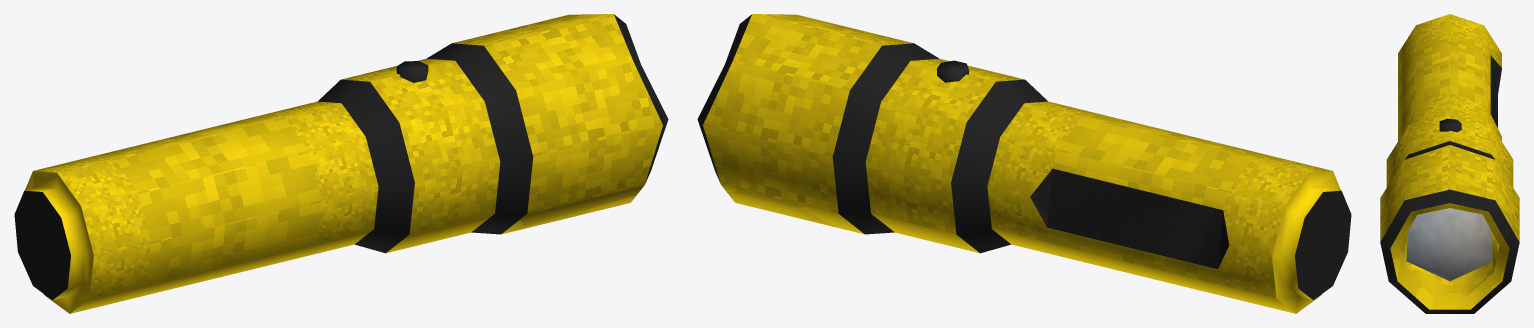
Rendered from Lanterna.fbx.
3 views of the same model, side by side, from view 1: azimuth 30°, elevation 25°; view 2: azimuth 150°, elevation 25°; view 3: azimuth 270°, elevation 25° (orthographic). The views are drawn at different scales.
Parts seen in each view (by area): view 1: Lanterna; view 2: Lanterna; view 3: Lanterna.
Part boxes in pixels (x1,y1,x2,y2): Lanterna: [14, 14, 668, 313]; Lanterna: [697, 14, 1351, 313]; Lanterna: [1380, 14, 1519, 313].
Size of the model in its own units: 53.99 by 15.59 by 15.83.
3 materials, 3 textured.
